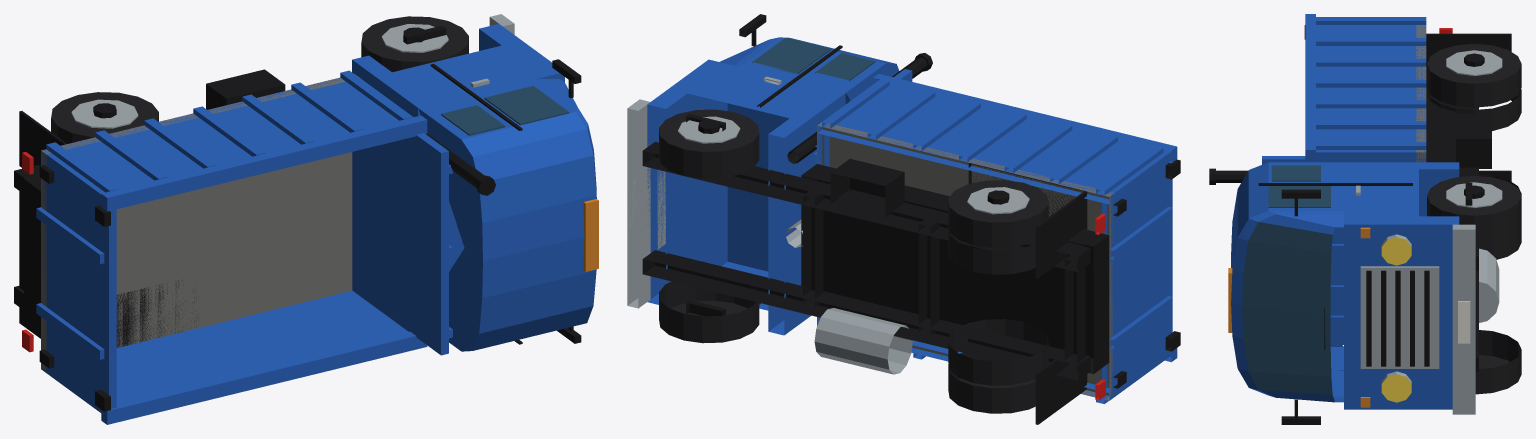
Rendered from empty.glb.
The picture shows the model from 3 angles, left to right: view 1: azimuth 30°, elevation 25°; view 2: azimuth 150°, elevation 25°; view 3: azimuth 270°, elevation 25°; orthographic projection. The views are drawn at different scales.
Visible parts, largest first — view 1: empty_bed, empty_cab_upper, empty_headboard, empty_cab_arch, empty_front1, empty_rear_out1, empty_subframe, empty_cab_back, empty_rear_guard-1, empty_battery_box, empty_side_window1, empty_cab_front (+4 smaller); view 2: empty_bed, empty_subframe, empty_cab_arch, empty_chassis-1, empty_chassis1, empty_cab_back, empty_cab_front, empty_front1, empty_rear_out1, empty_fuel_tank, empty_bumper, empty_front-1 (+15 smaller); view 3: empty_cab_upper, empty_bed, empty_cab_front, empty_grille, empty_rear_out1, empty_front1, empty_bumper, empty_cab_arch, empty_front-1, empty_battery_box, empty_subframe, empty_cab_back (+21 smaller).
Part boxes in pixels (left/top/right/bottom): empty_bed: left=36, top=70, right=427, bottom=424; empty_cab_upper: left=418, top=79, right=596, bottom=351; empty_headboard: left=414, top=133, right=448, bottom=355; empty_cab_arch: left=392, top=45, right=544, bottom=271; empty_front1: left=361, top=16, right=468, bottom=72; empty_rear_out1: left=51, top=92, right=158, bottom=143; empty_subframe: left=24, top=175, right=40, bottom=327; empty_cab_back: left=352, top=55, right=434, bottom=116; empty_rear_guard-1: left=116, top=280, right=198, bottom=347; empty_battery_box: left=206, top=69, right=285, bottom=109; empty_side_window1: left=484, top=86, right=569, bottom=125; empty_cab_front: left=479, top=24, right=564, bottom=82; empty_bed: left=817, top=74, right=1177, bottom=403; empty_subframe: left=801, top=164, right=1109, bottom=374; empty_cab_arch: left=687, top=64, right=829, bottom=310; empty_chassis-1: left=642, top=250, right=1090, bottom=380; empty_chassis1: left=642, top=141, right=1090, bottom=271; empty_cab_back: left=768, top=89, right=845, bottom=335; empty_cab_front: left=647, top=59, right=727, bottom=304; empty_front1: left=659, top=109, right=759, bottom=178; empty_rear_out1: left=948, top=180, right=1048, bottom=247; empty_fuel_tank: left=814, top=308, right=912, bottom=374; empty_bumper: left=627, top=99, right=650, bottom=308; empty_front-1: left=659, top=281, right=759, bottom=343; empty_cab_upper: left=1231, top=162, right=1343, bottom=402; empty_bed: left=1305, top=14, right=1426, bottom=344; empty_cab_front: left=1344, top=216, right=1459, bottom=409; empty_grille: left=1360, top=266, right=1439, bottom=368; empty_rear_out1: left=1427, top=44, right=1521, bottom=107; empty_front1: left=1427, top=175, right=1521, bottom=240; empty_bumper: left=1452, top=224, right=1475, bottom=414; empty_cab_arch: left=1344, top=169, right=1418, bottom=216; empty_front-1: left=1475, top=330, right=1521, bottom=394; empty_battery_box: left=1456, top=114, right=1491, bottom=168; empty_subframe: left=1426, top=67, right=1455, bottom=162; empty_cab_back: left=1344, top=162, right=1459, bottom=216.
Size of the model in its own units: 7.6 by 3.9 by 4.75.
